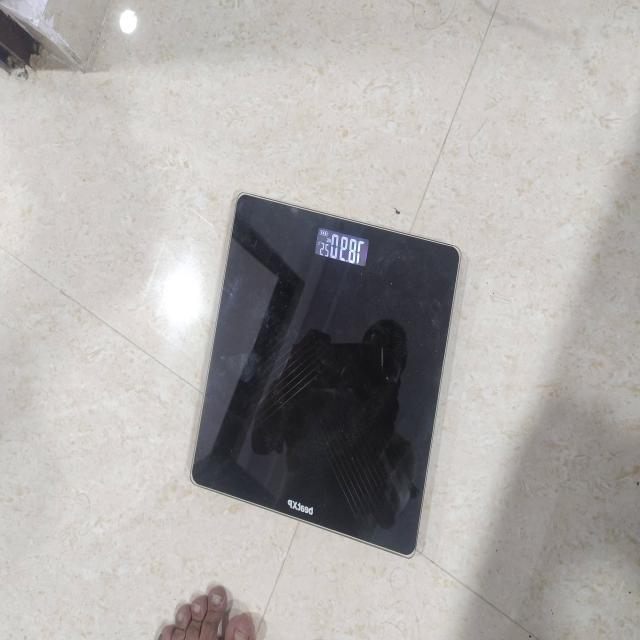ws: (191, 195, 460, 552)
